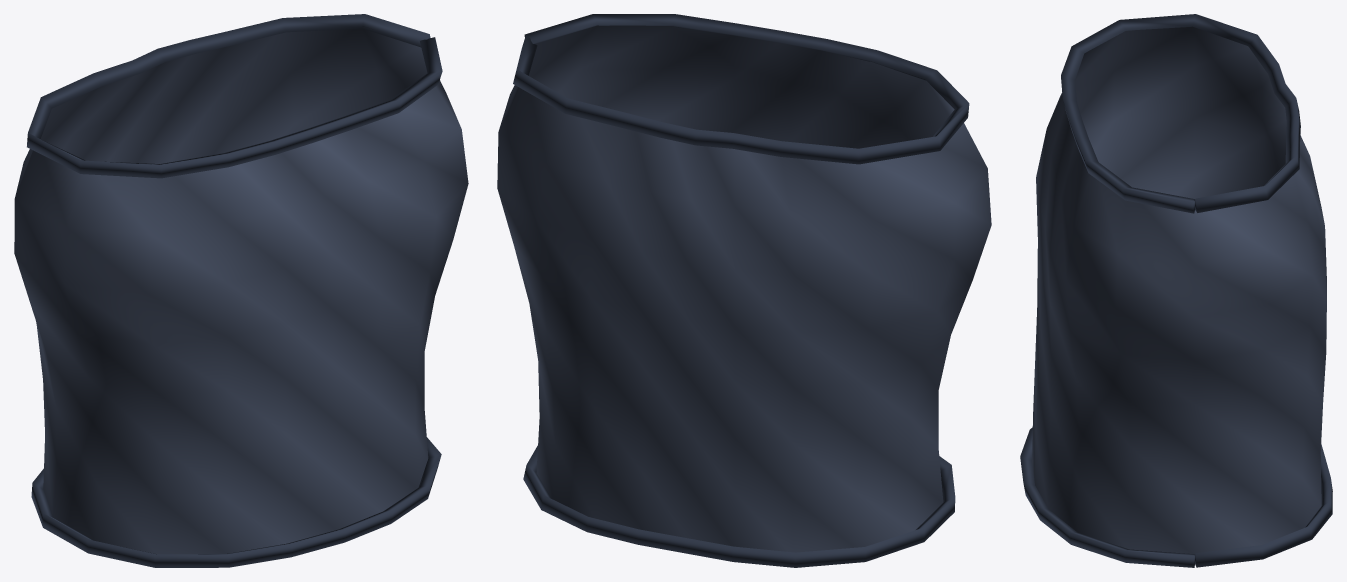
File: lead_armor_chest.glb
The picture shows the model from 3 angles, left to right: view 1: azimuth 30°, elevation 25°; view 2: azimuth 150°, elevation 25°; view 3: azimuth 270°, elevation 25°; orthographic projection. The views are drawn at different scales.
Parts seen in each view (by area): view 1: lead_armor_chest; view 2: lead_armor_chest; view 3: lead_armor_chest.
Boxes of the visible parts, x1=… form: lead_armor_chest: x1=14, y1=14, x2=468, y2=567; lead_armor_chest: x1=497, y1=14, x2=991, y2=567; lead_armor_chest: x1=1020, y1=14, x2=1332, y2=567.
Bounding box in the file's own units: 0.4364 × 0.3859 × 0.2895.
